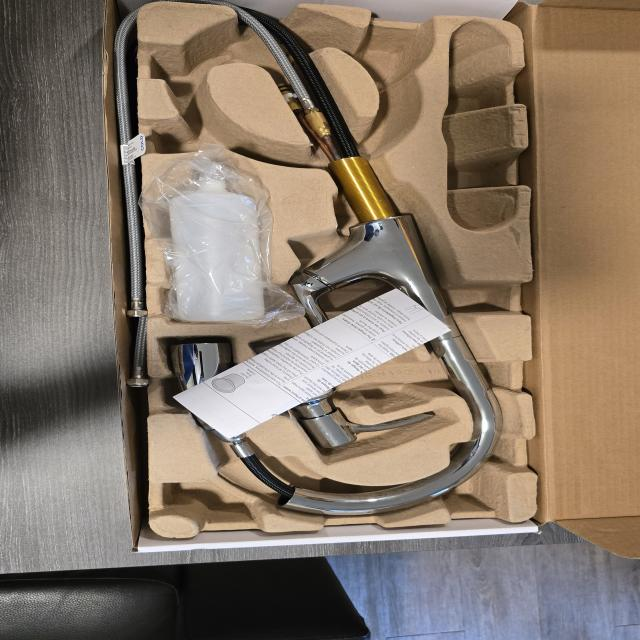1o: (167, 5, 503, 520)
2o: (256, 335, 438, 450)
3: (163, 165, 267, 321)
4m: (441, 20, 517, 229)
5m: (355, 34, 419, 82)
6m: (148, 28, 235, 93)
7m: (154, 95, 263, 160)
8: (172, 286, 454, 440)
